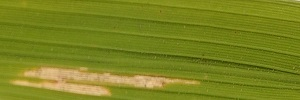RiceBacterialBlight: (10, 58, 204, 100)
